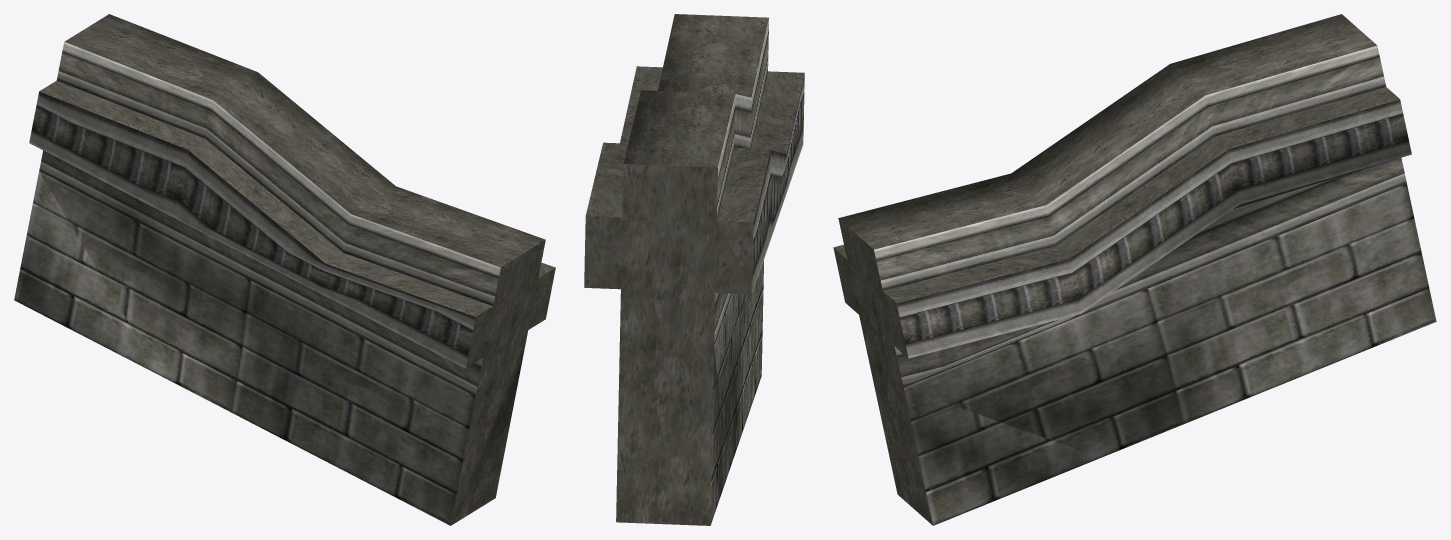
Rendered from DWARF_PALACE_MAINHALL_BALK_DEBREE04.fbx.
The picture shows the model from 3 angles, left to right: view 1: azimuth 30°, elevation 25°; view 2: azimuth 150°, elevation 25°; view 3: azimuth 270°, elevation 25°; orthographic projection. The views are drawn at different scales.
Parts seen in each view (by area): view 1: DWARF_PALACE_MAINHALL_BALK_DEBREE04; view 2: DWARF_PALACE_MAINHALL_BALK_DEBREE04; view 3: DWARF_PALACE_MAINHALL_BALK_DEBREE04.
Part boxes in pixels (bbox=[...]): DWARF_PALACE_MAINHALL_BALK_DEBREE04: bbox=[14, 14, 555, 525]; DWARF_PALACE_MAINHALL_BALK_DEBREE04: bbox=[584, 14, 804, 525]; DWARF_PALACE_MAINHALL_BALK_DEBREE04: bbox=[833, 14, 1436, 525].
Bounding box in the file's own units: 23339 × 26651 × 37253.
4 materials, 4 textured.
